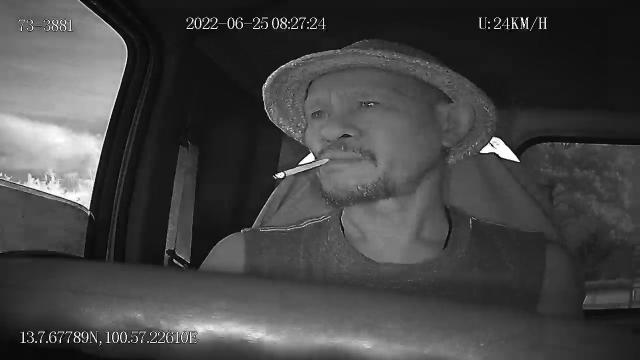SafeDriving: (350, 92, 388, 114), (304, 100, 334, 122)
Smoking: (270, 156, 330, 182)
